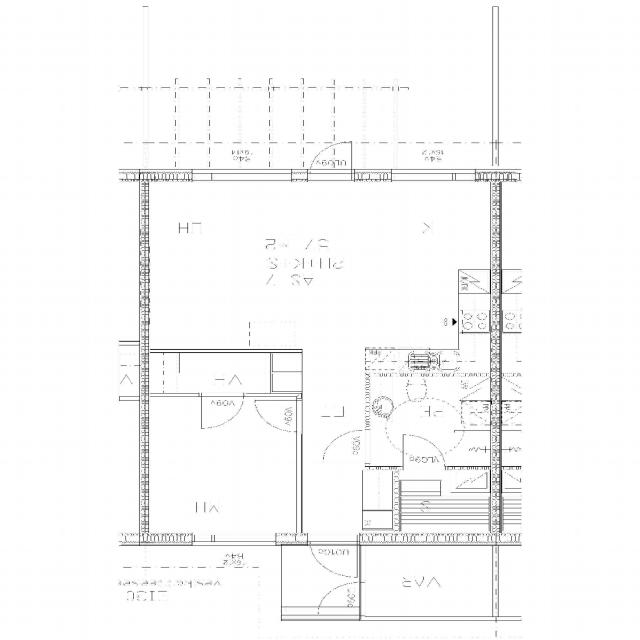door: (310, 532, 355, 580), (309, 137, 351, 182), (255, 400, 302, 432), (323, 429, 370, 461), (202, 392, 242, 428), (403, 434, 444, 469), (319, 582, 365, 613)
